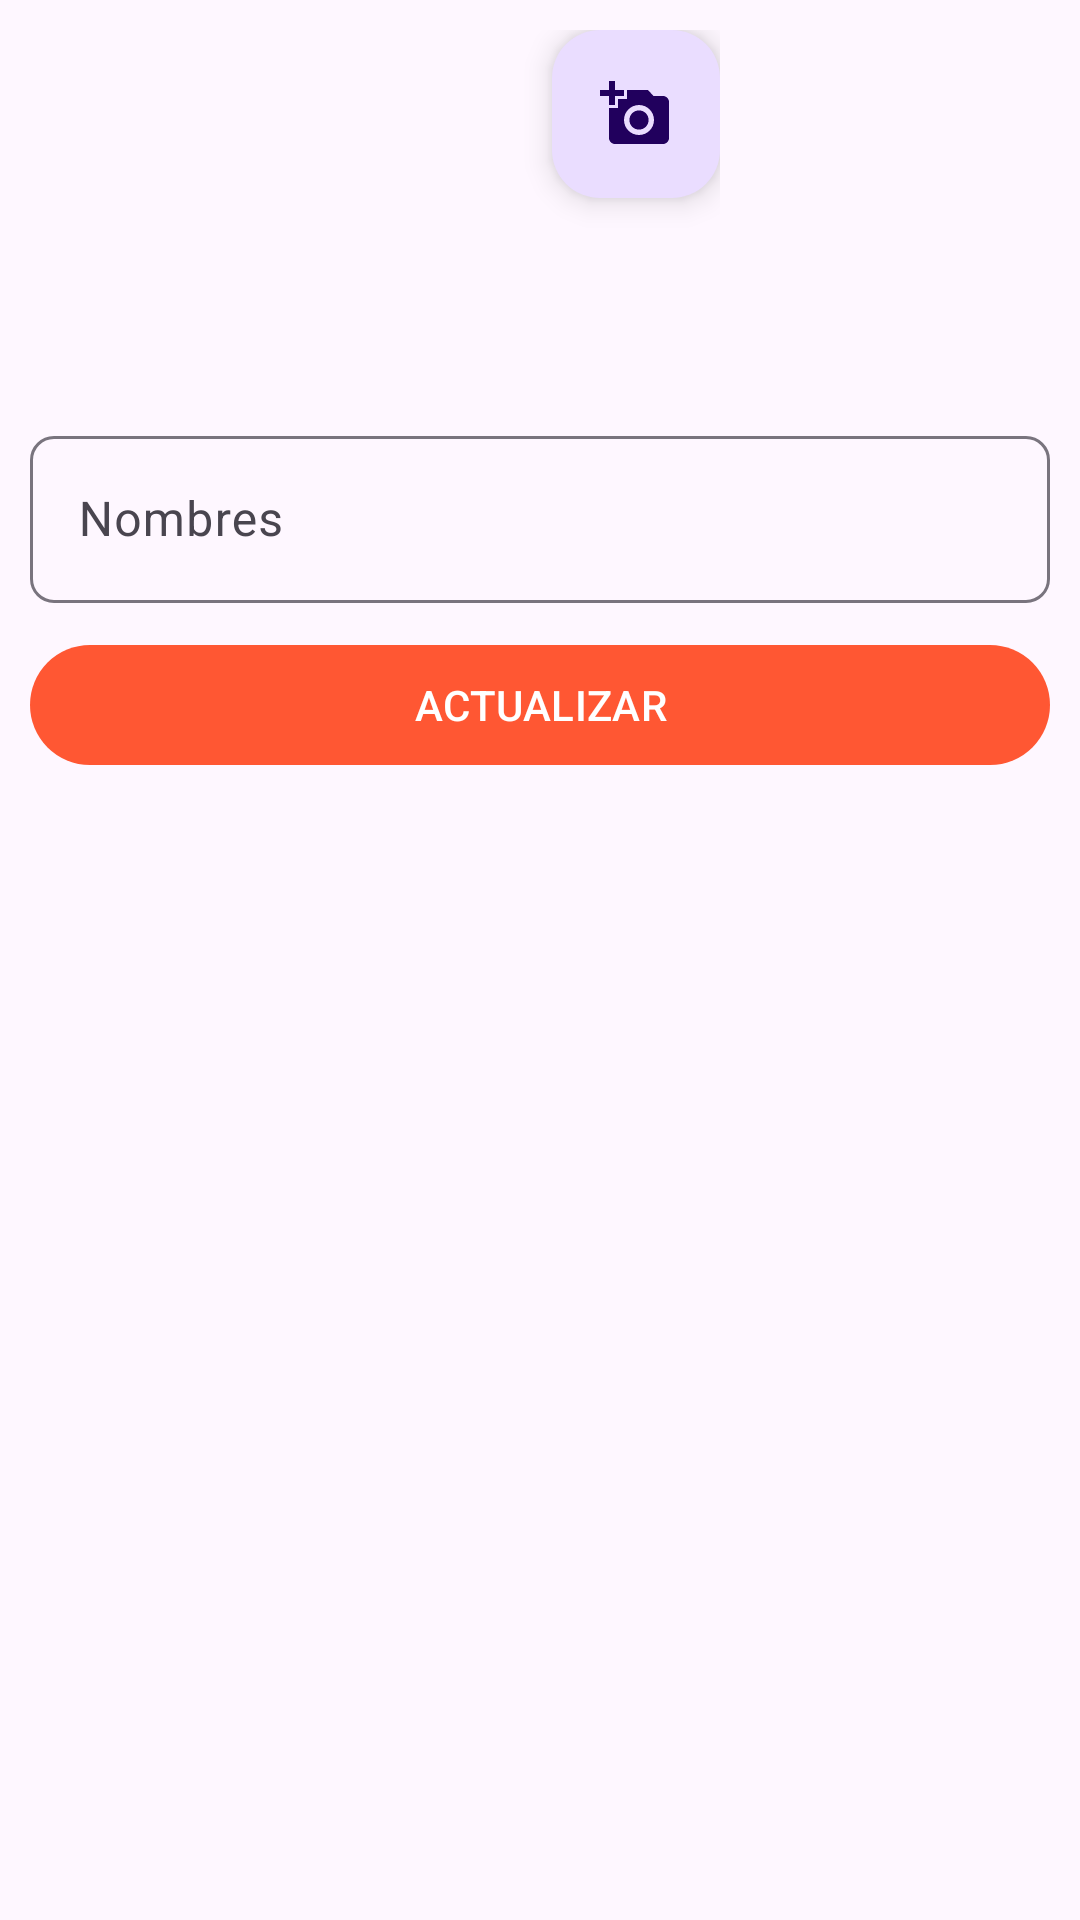

Where icons sit on this 1080px x 1920px app screen, as detection(x1, y1, x2, y2):
cambiar: detection(552, 30, 720, 198)
